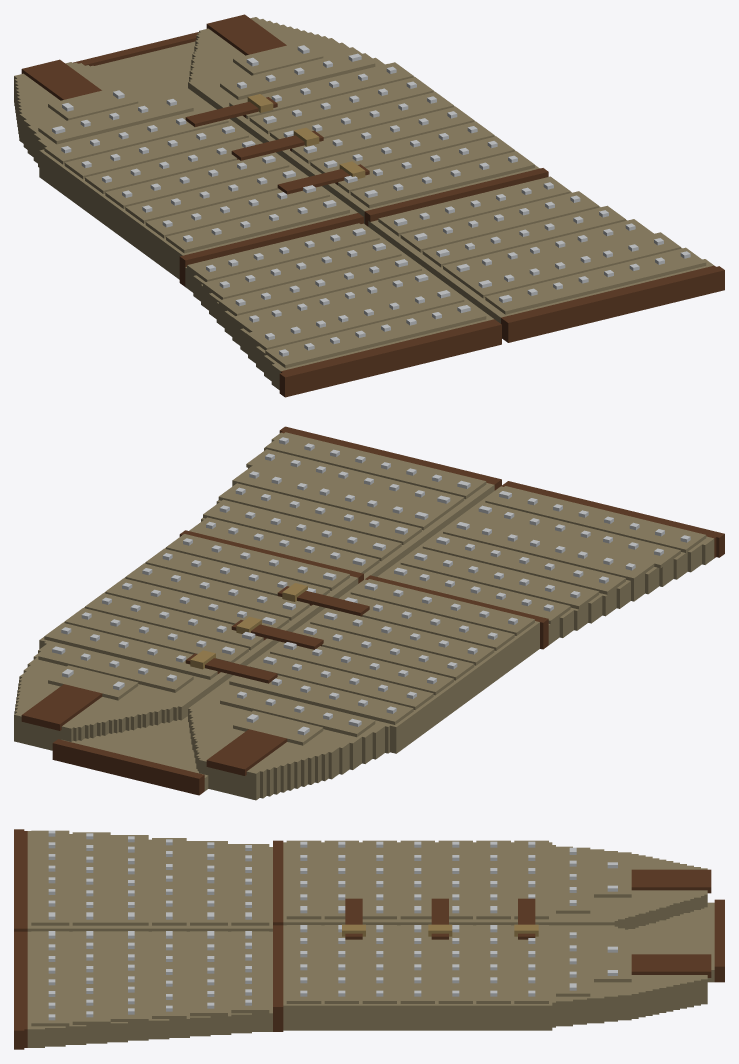
File: lc_coat_brigandine.glb
The picture shows the model from 3 angles, top to bottom: view 1: azimuth 30°, elevation 25°; view 2: azimuth 150°, elevation 25°; view 3: azimuth 270°, elevation 25°; orthographic projection. The views are drawn at different scales.
Visible parts, largest first — view 1: lc_coat_brigandine:compound; view 2: lc_coat_brigandine:compound; view 3: lc_coat_brigandine:compound.
Part boxes in pixels (<box>): lc_coat_brigandine:compound: <box>14,14,724,397</box>; lc_coat_brigandine:compound: <box>14,426,724,800</box>; lc_coat_brigandine:compound: <box>14,829,724,1049</box>.
Size of the model in its own units: 0.552 by 0.044 by 0.824.
